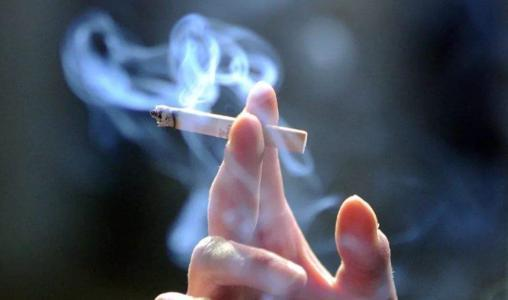Cigarette: (152, 104, 308, 157)
Smoke: (62, 12, 328, 290)
